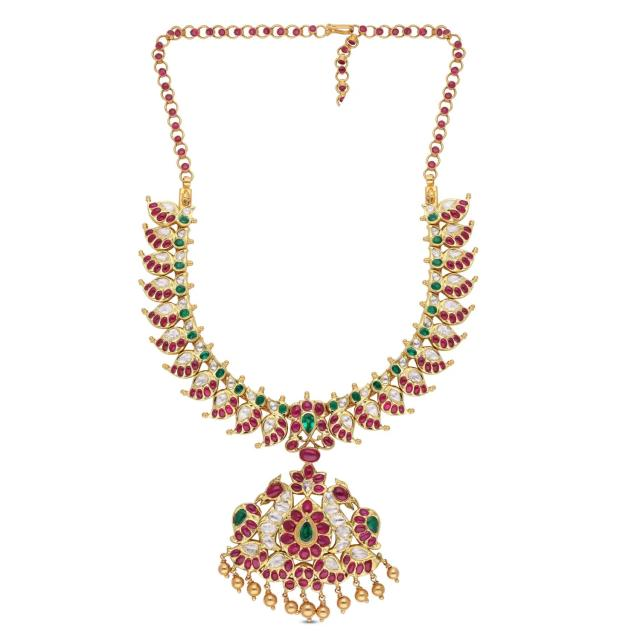missing gem: (369, 555, 379, 564), (248, 514, 259, 521)
